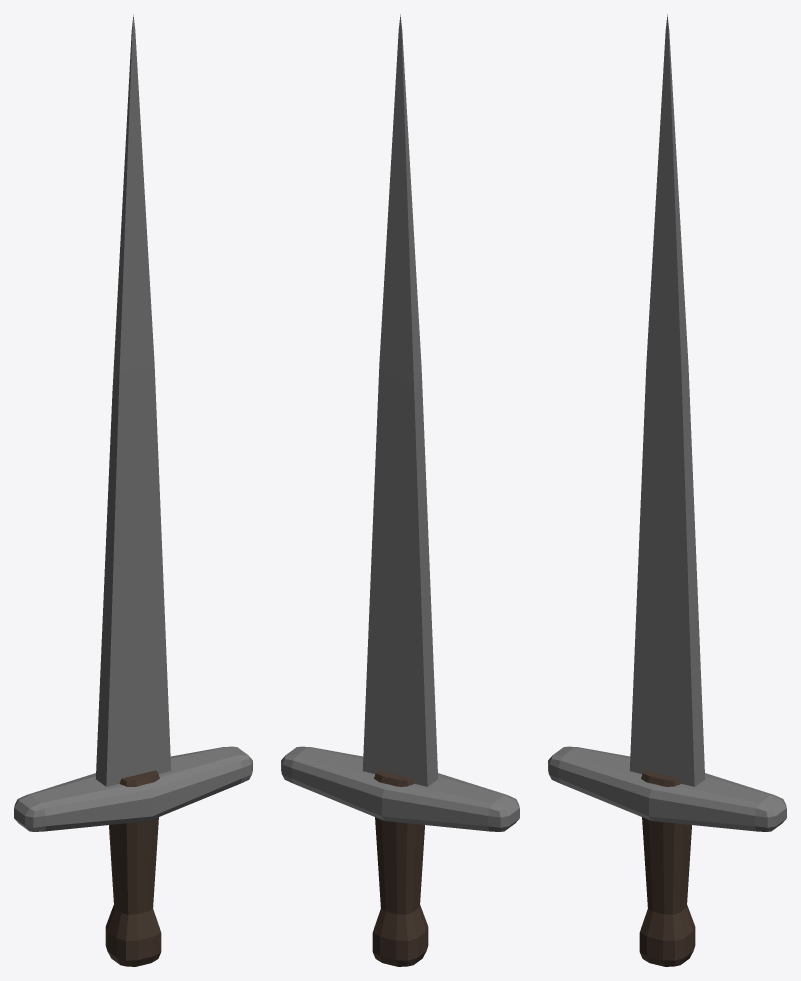
Rendered from sword.fbx.
3 views of the same model, side by side, from view 1: azimuth 30°, elevation 25°; view 2: azimuth 150°, elevation 25°; view 3: azimuth 330°, elevation 25° (orthographic).
Visible parts, largest first — view 1: Blade, Hilt, Handle; view 2: Blade, Hilt, Handle; view 3: Blade, Hilt, Handle.
Boxes of the visible parts, box(x1,y1,x2,y2) form: Blade: box(96, 14, 171, 786); Hilt: box(14, 746, 252, 831); Handle: box(105, 770, 161, 966); Blade: box(362, 14, 438, 786); Hilt: box(281, 746, 519, 831); Handle: box(372, 770, 428, 966); Blade: box(629, 14, 705, 786); Hilt: box(548, 746, 786, 831); Handle: box(639, 770, 695, 966).
Bounding box in the file's own units: 0.6923 × 2.75 × 0.1961.
